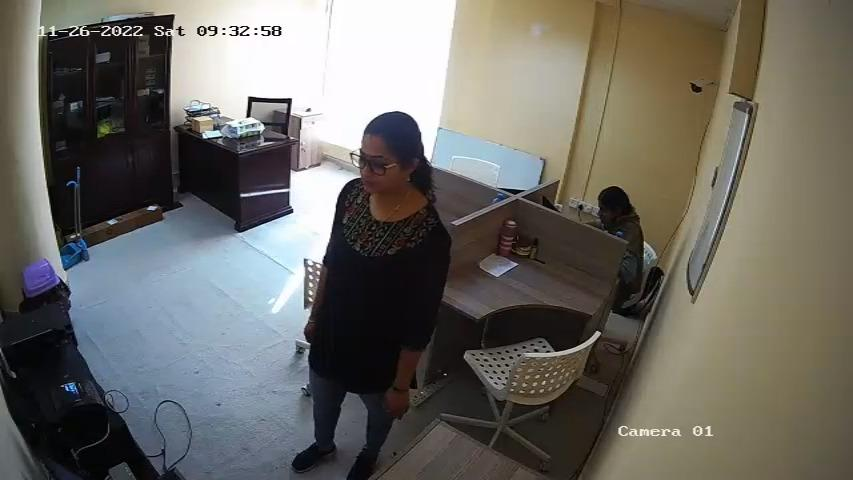no_apron: (319, 202, 400, 362)
